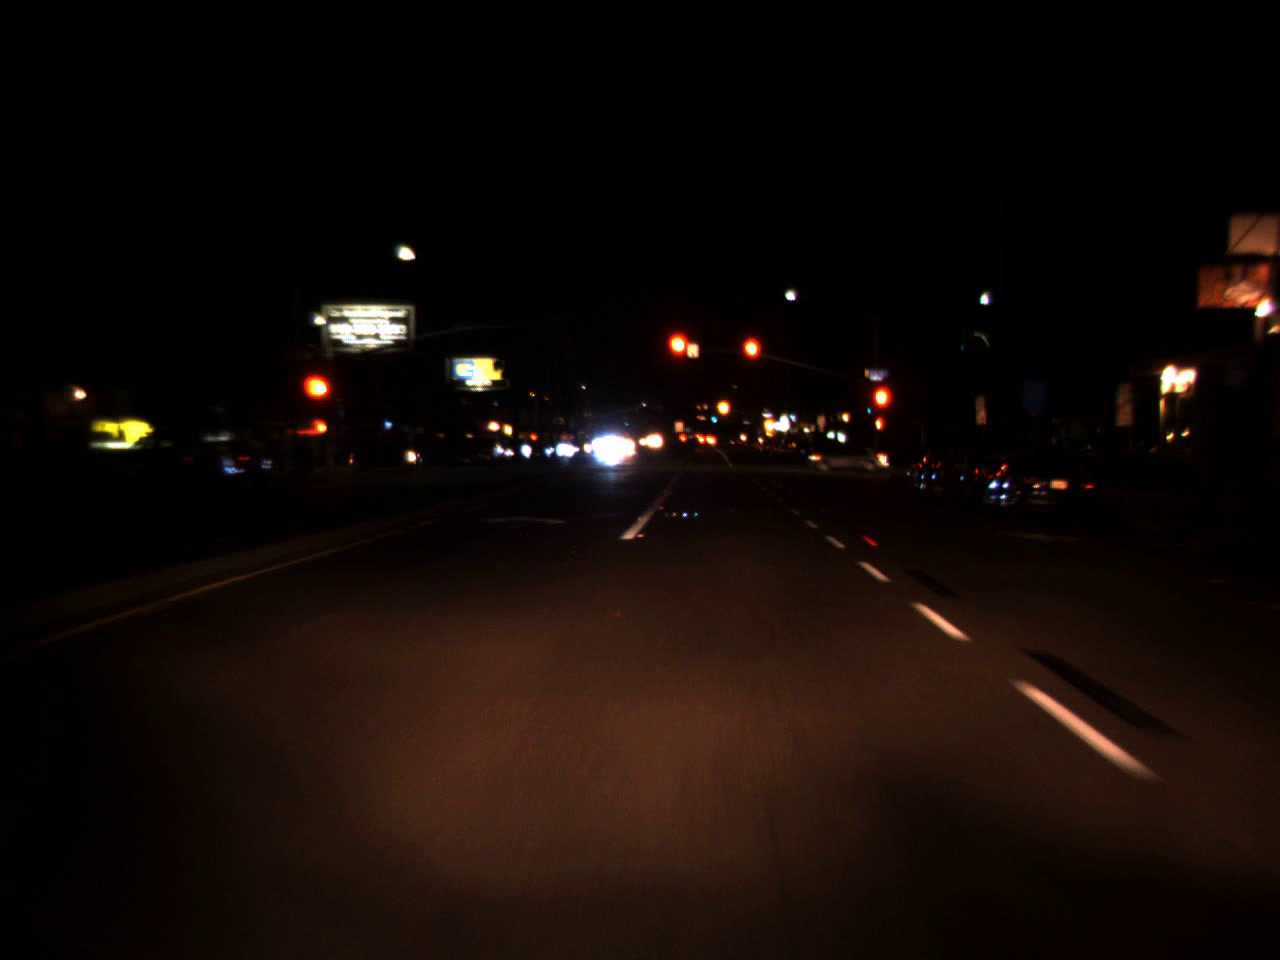go: (709, 410, 718, 422)
stop: (297, 370, 334, 429), (663, 328, 694, 384), (869, 383, 894, 437), (740, 333, 764, 387)
warning: (715, 392, 733, 422), (761, 408, 777, 438)
